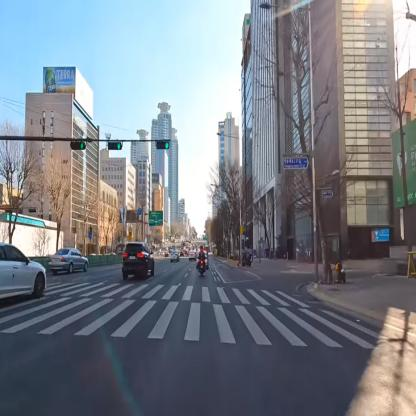Green: (107, 140, 122, 151), (71, 138, 85, 149), (158, 140, 170, 149)
